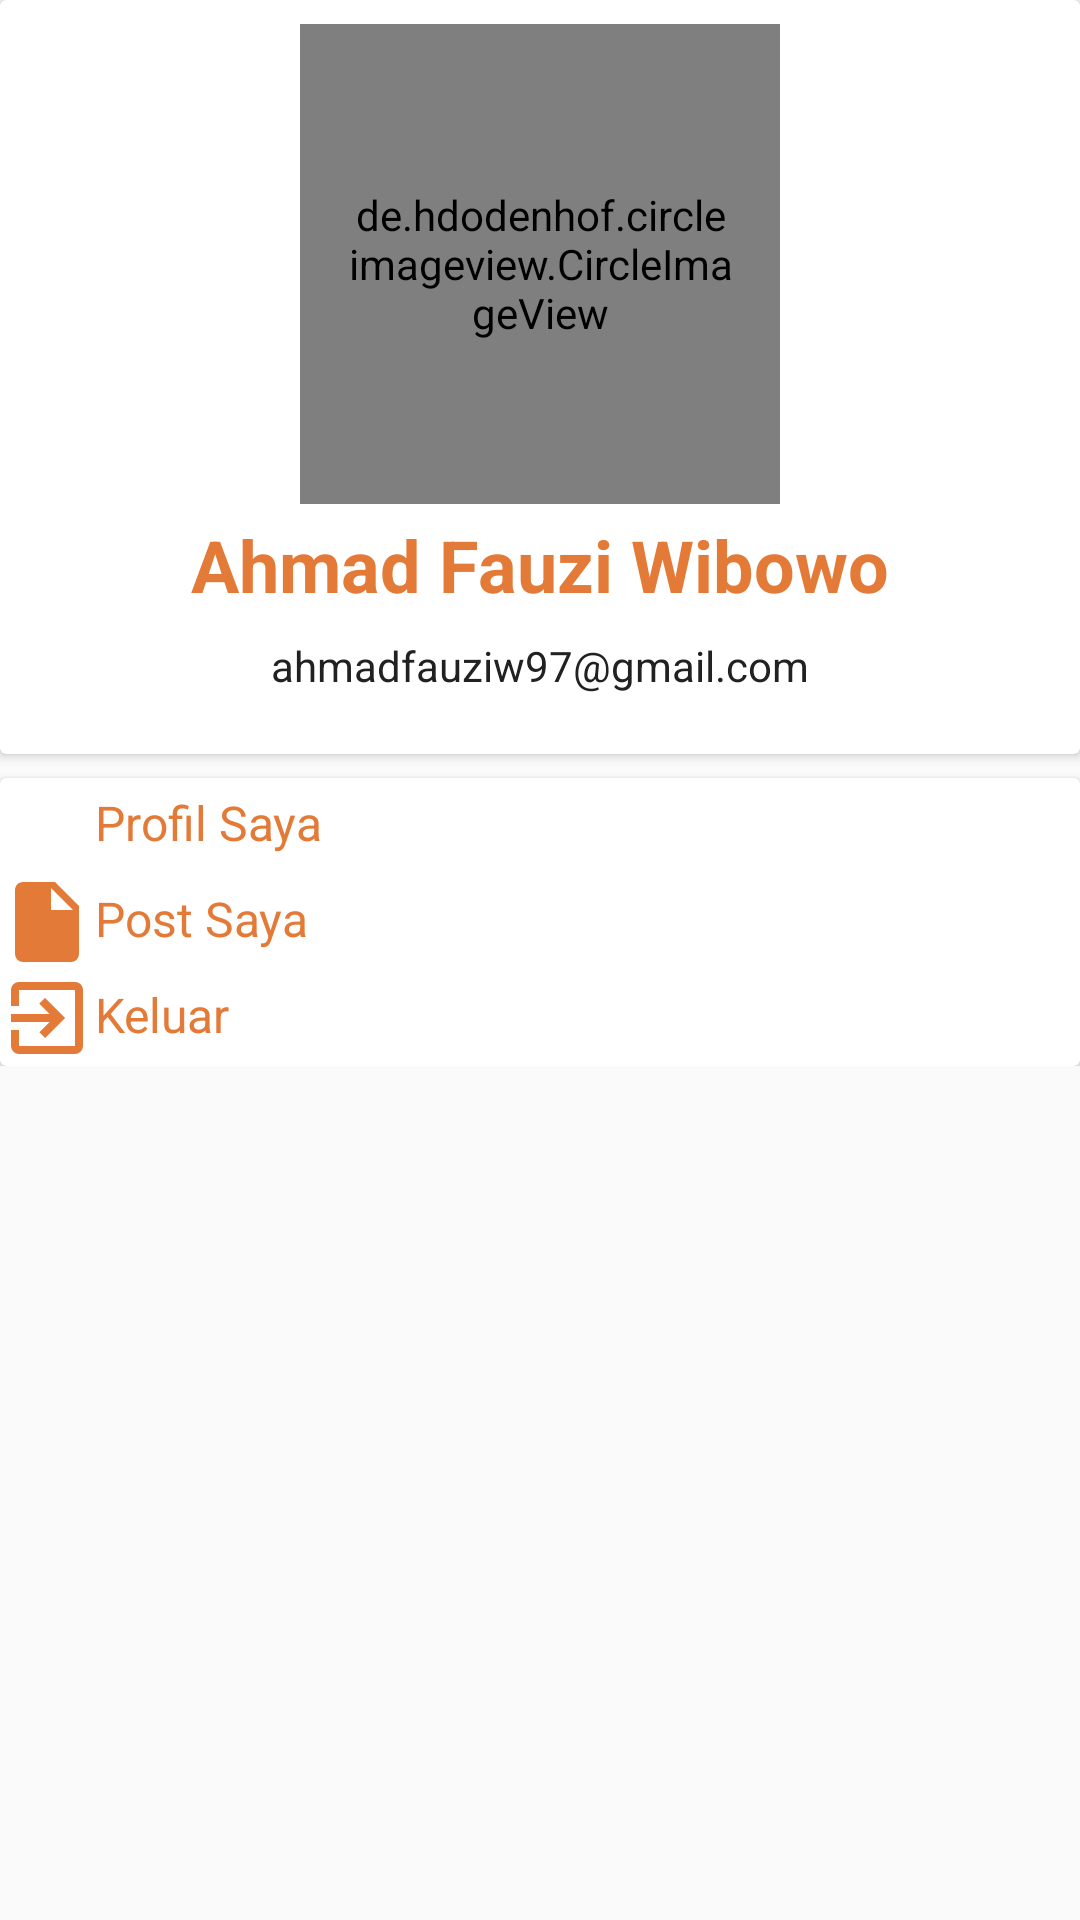

Icons on this 1080 x 1920 Android screen, each with the point to tap as (x,y):
exit: (41,1024)
file: (47,922)
